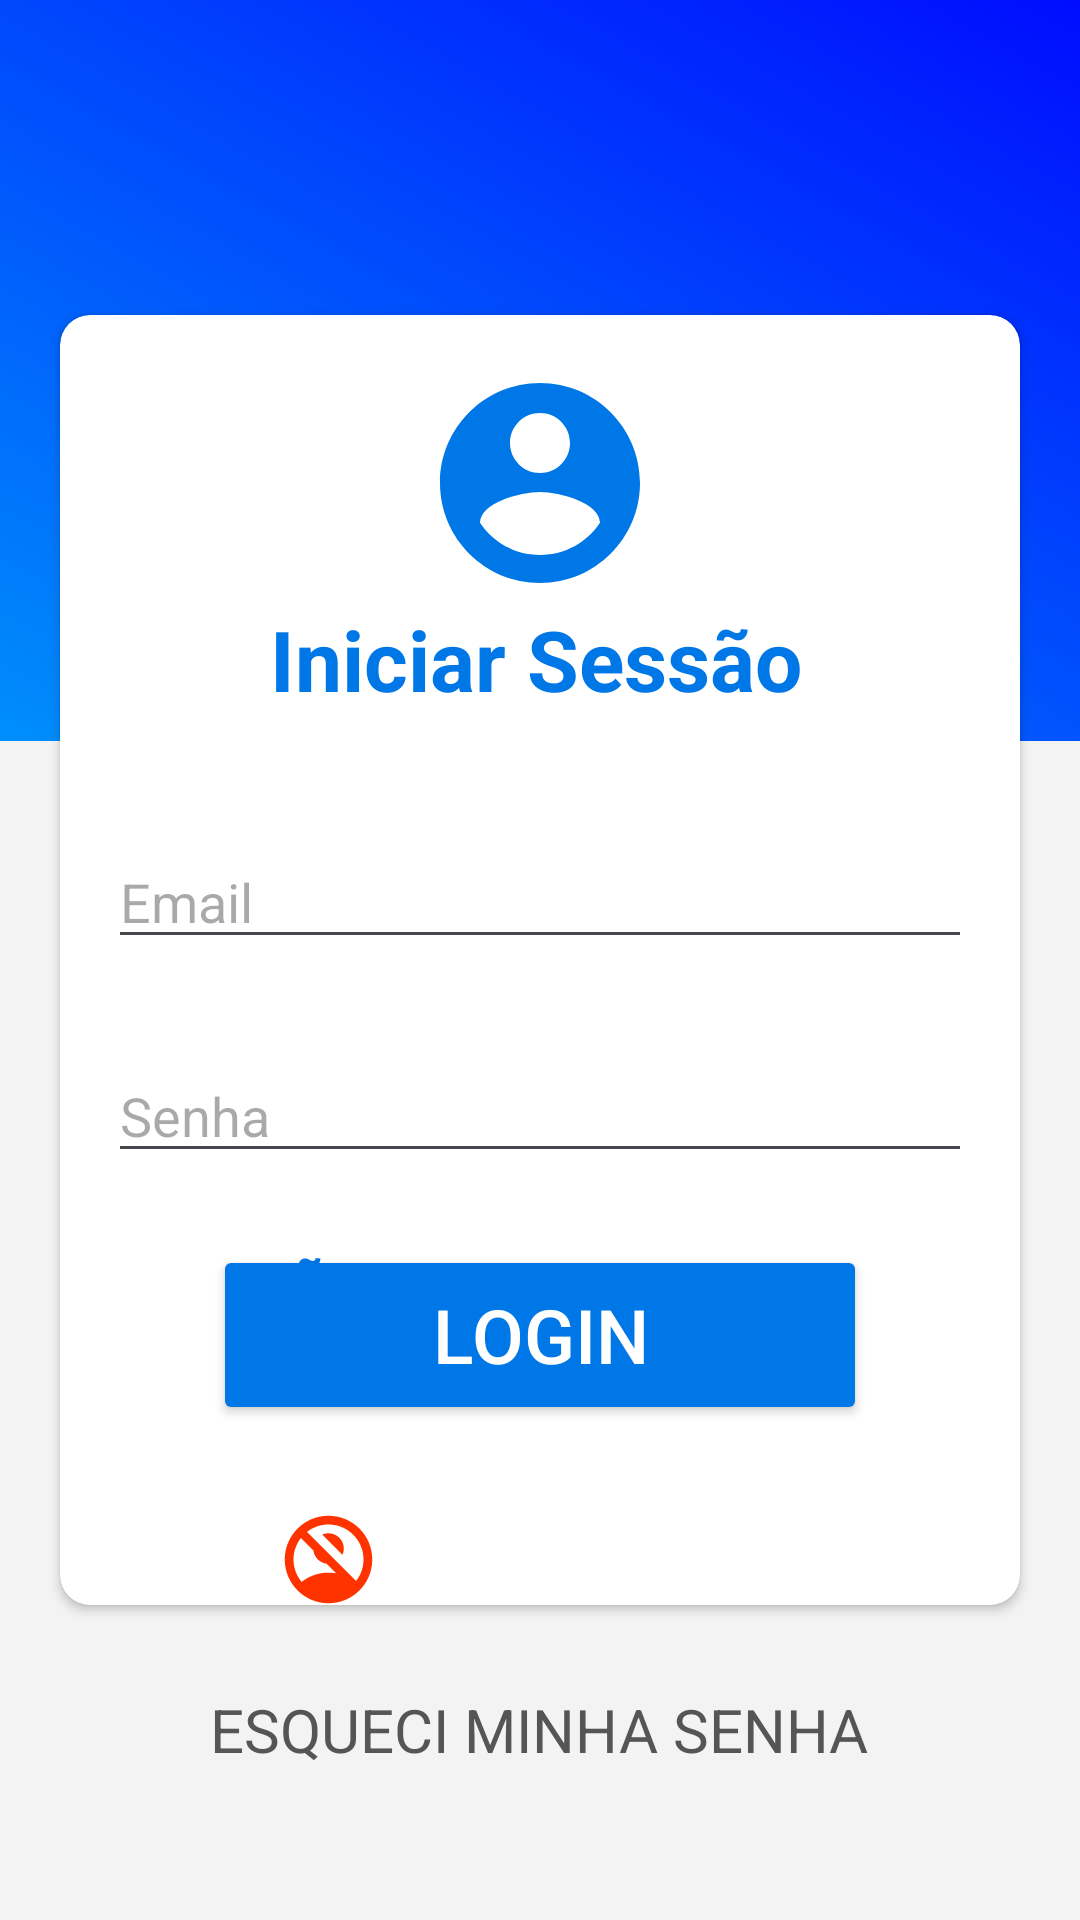

Named icons in this screenshot (1080×1920) and their bounding boxes, {"x1": x1, "y1": y1, "x2": x2, "y2": y2}:
account circle: {"x1": 439, "y1": 383, "x2": 640, "y2": 583}
no accounts: {"x1": 284, "y1": 1515, "x2": 373, "y2": 1604}
